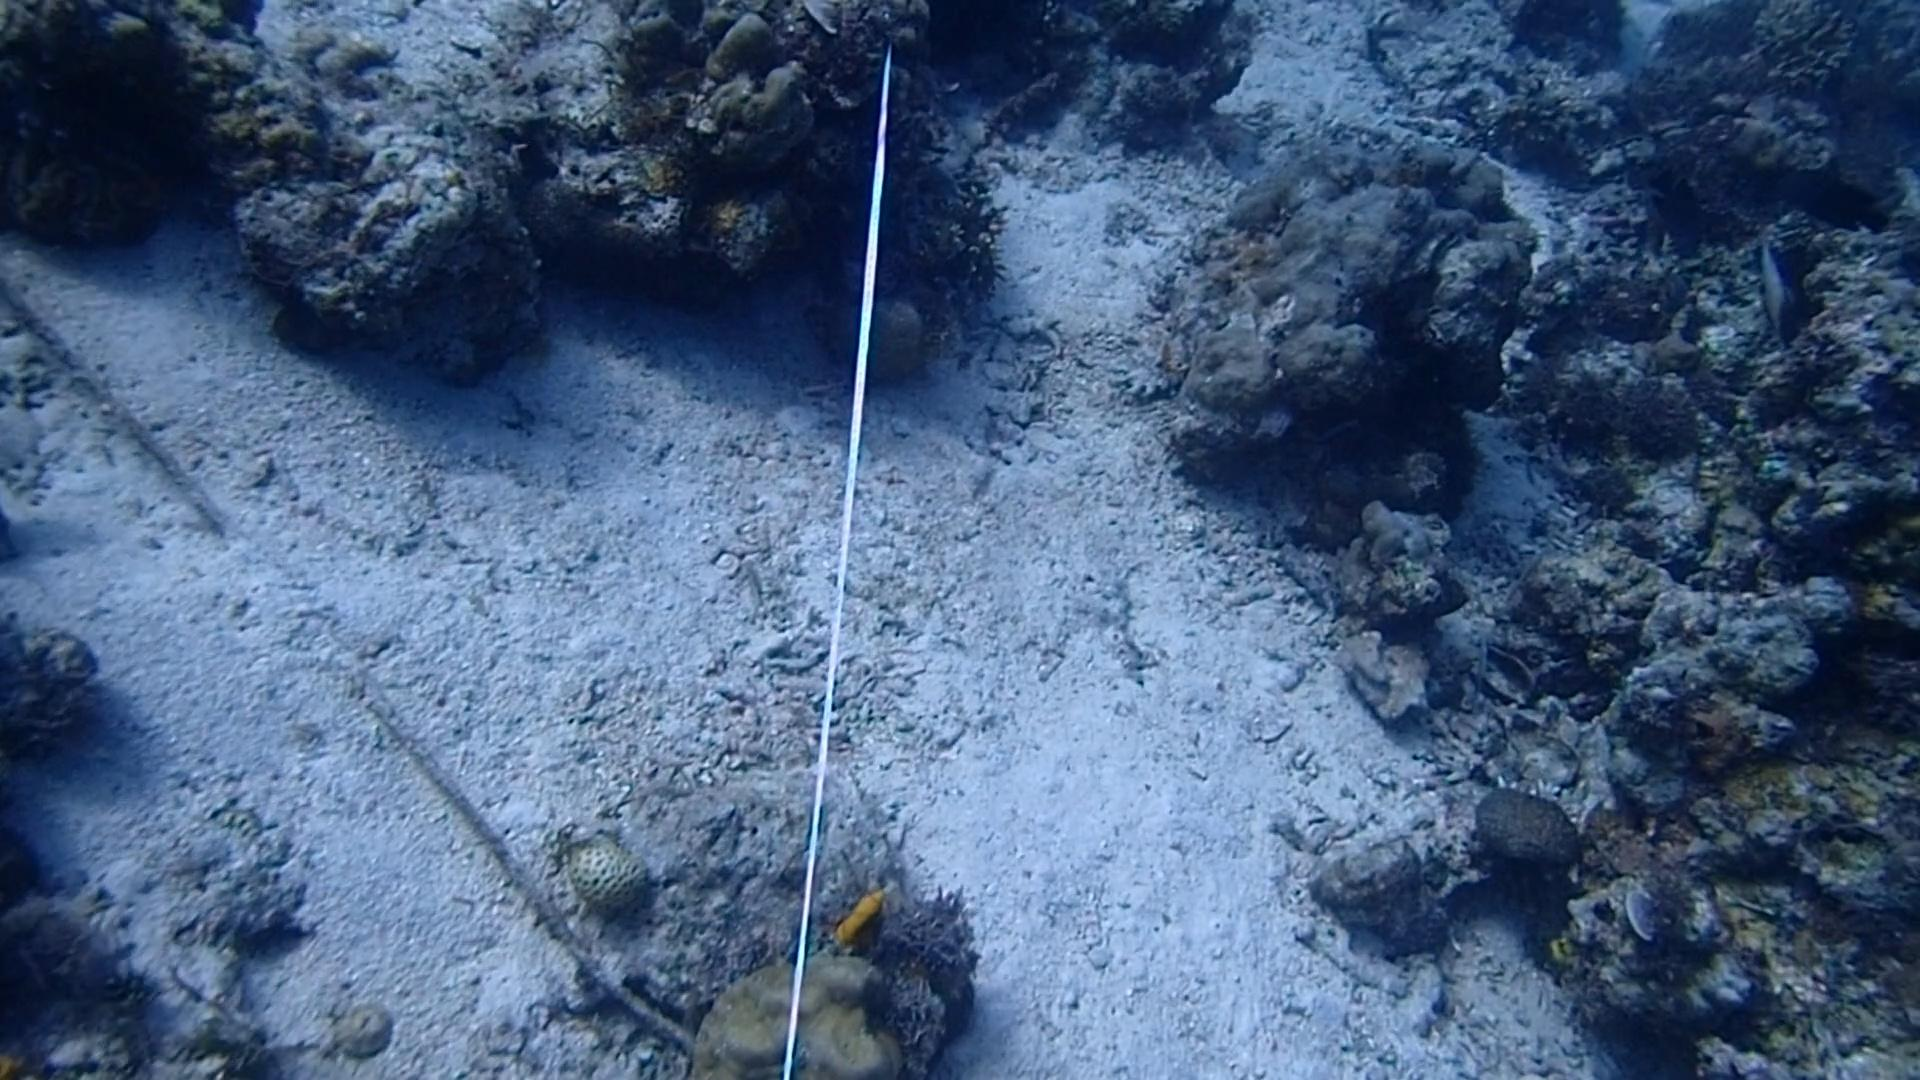Dark Fish: (1768, 152, 1888, 245), (1642, 166, 1716, 265)
